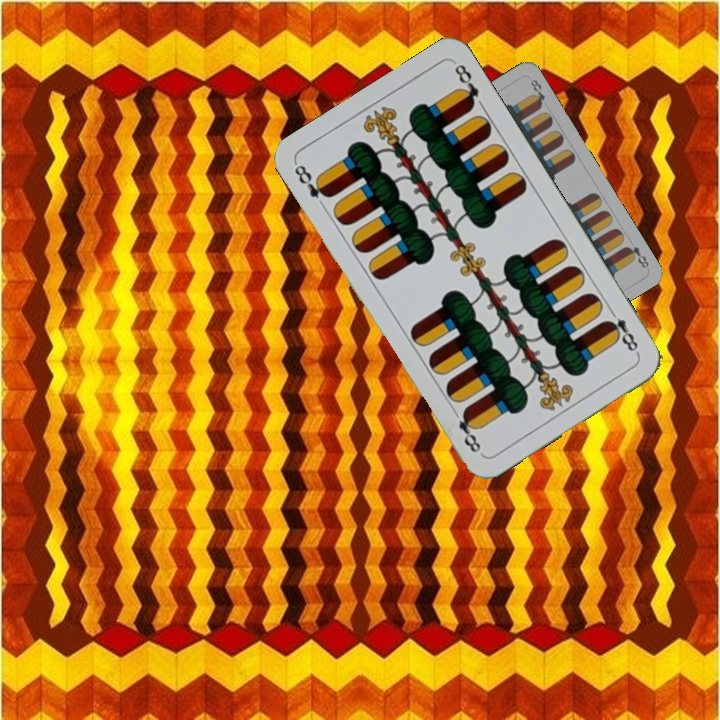E8: (601, 304, 642, 357), (290, 160, 334, 201), (621, 242, 651, 271)
